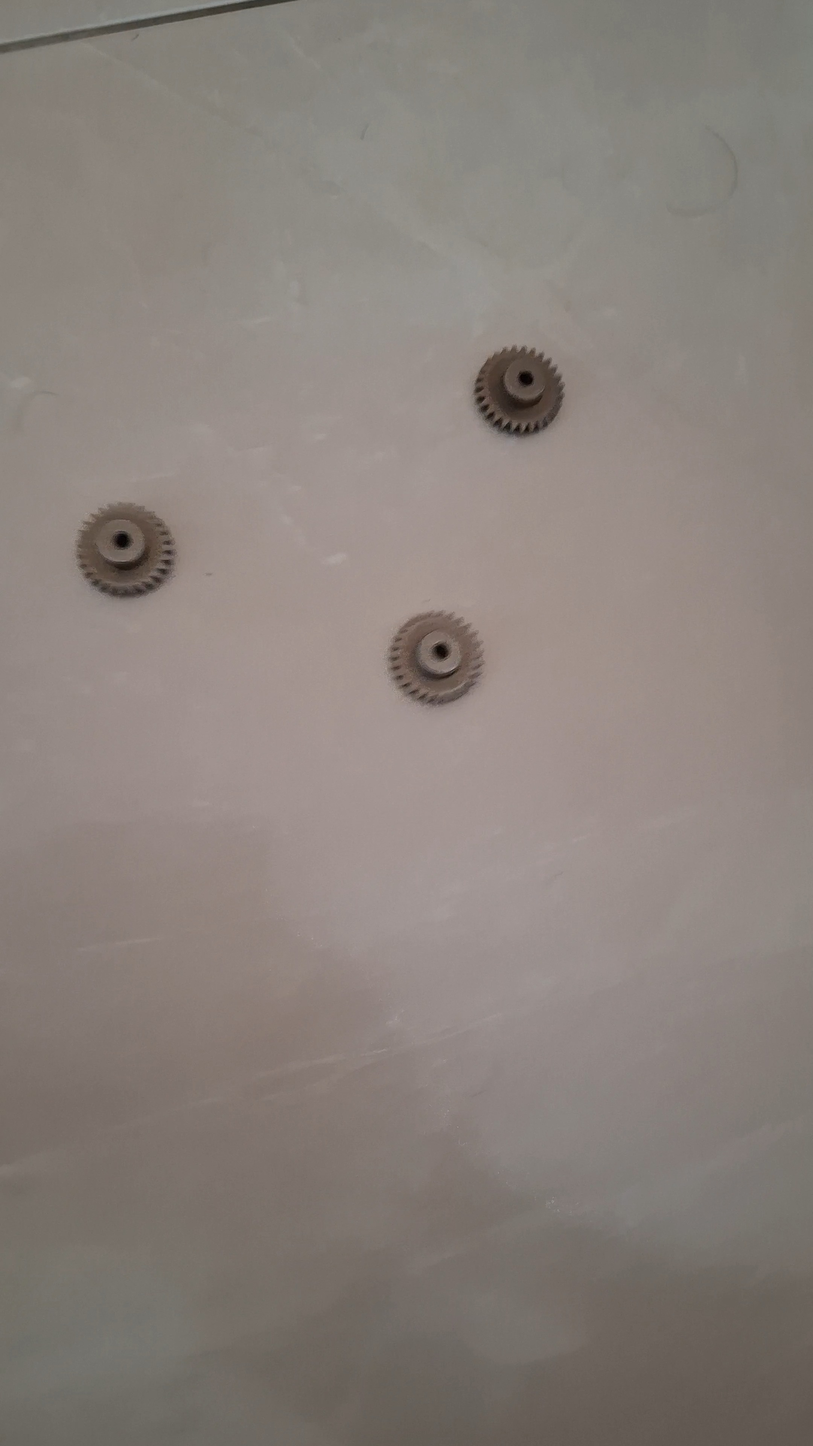spur gear: (76, 503, 175, 596), (388, 612, 482, 704), (474, 348, 563, 434)
